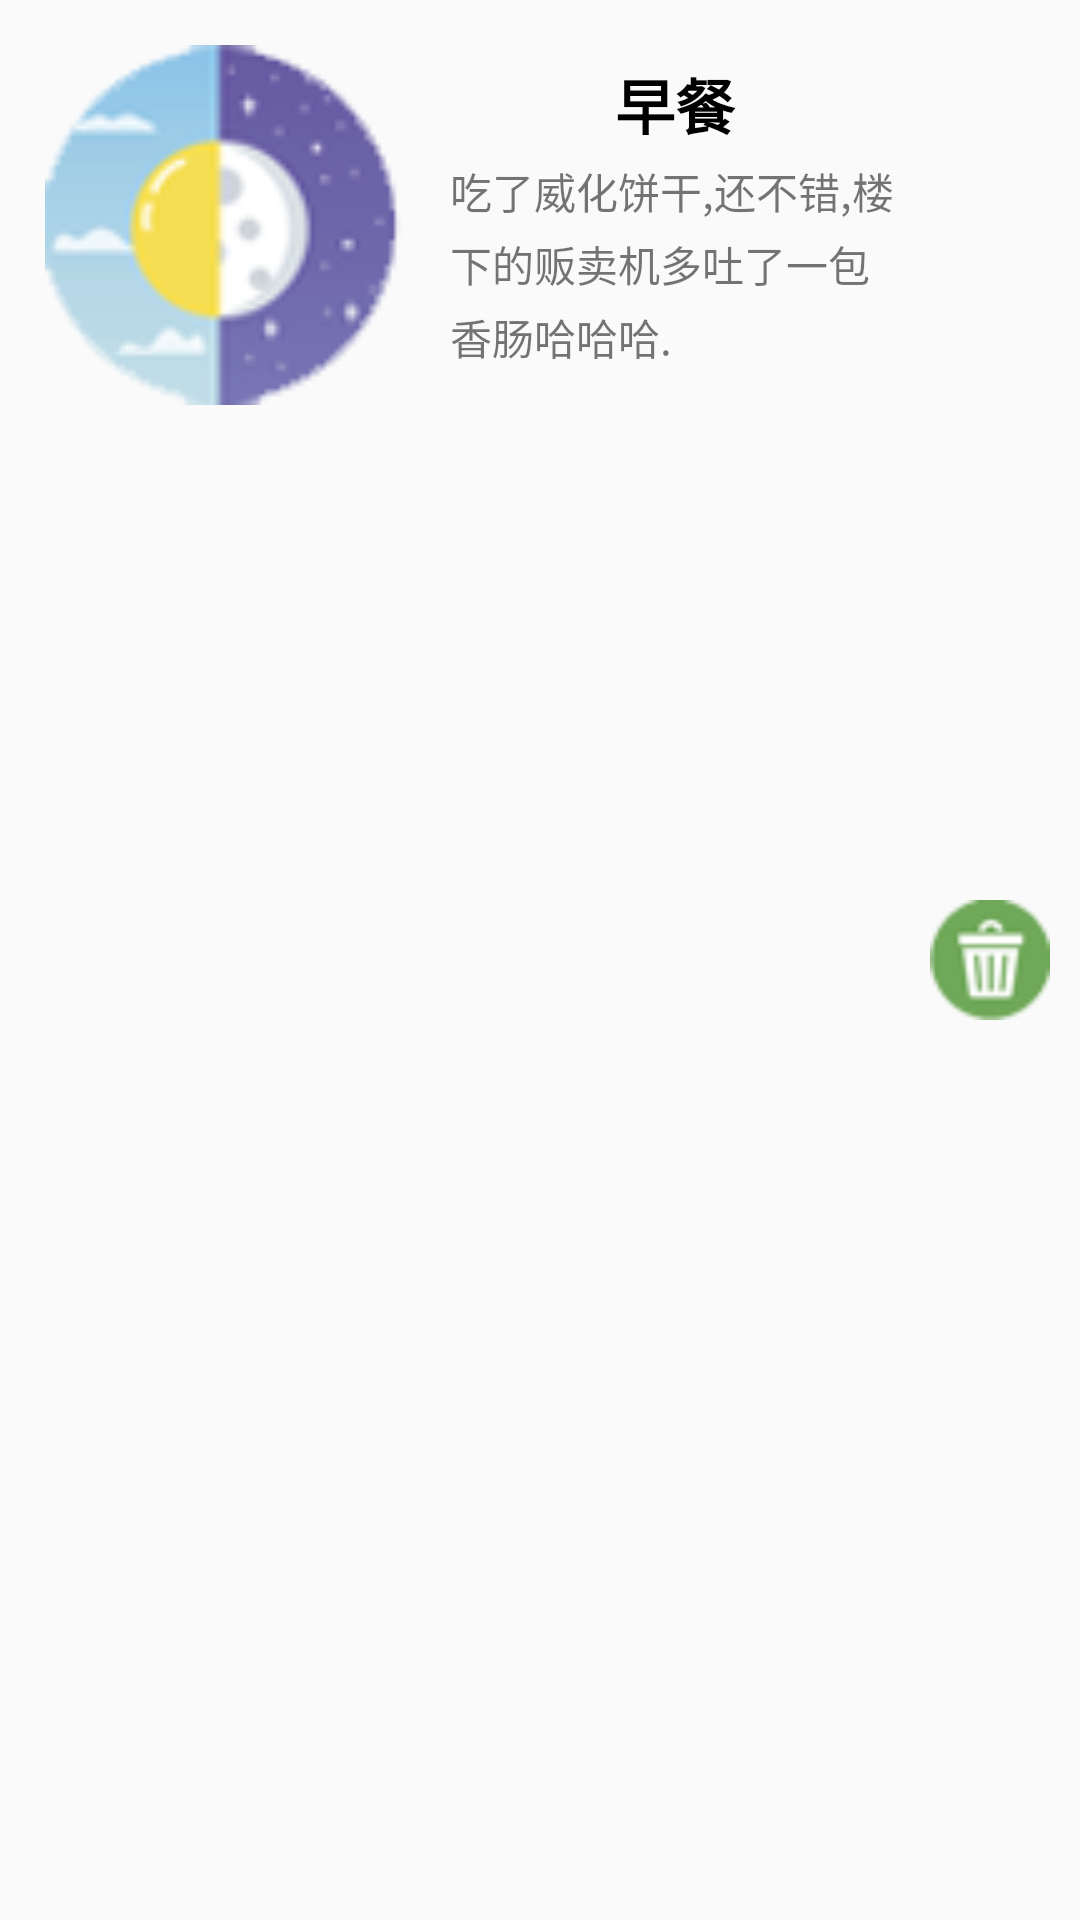

Point at icon controls on the screen. Image size 1080 × 1920, points as [x,y].
eat delete: [990,960]
